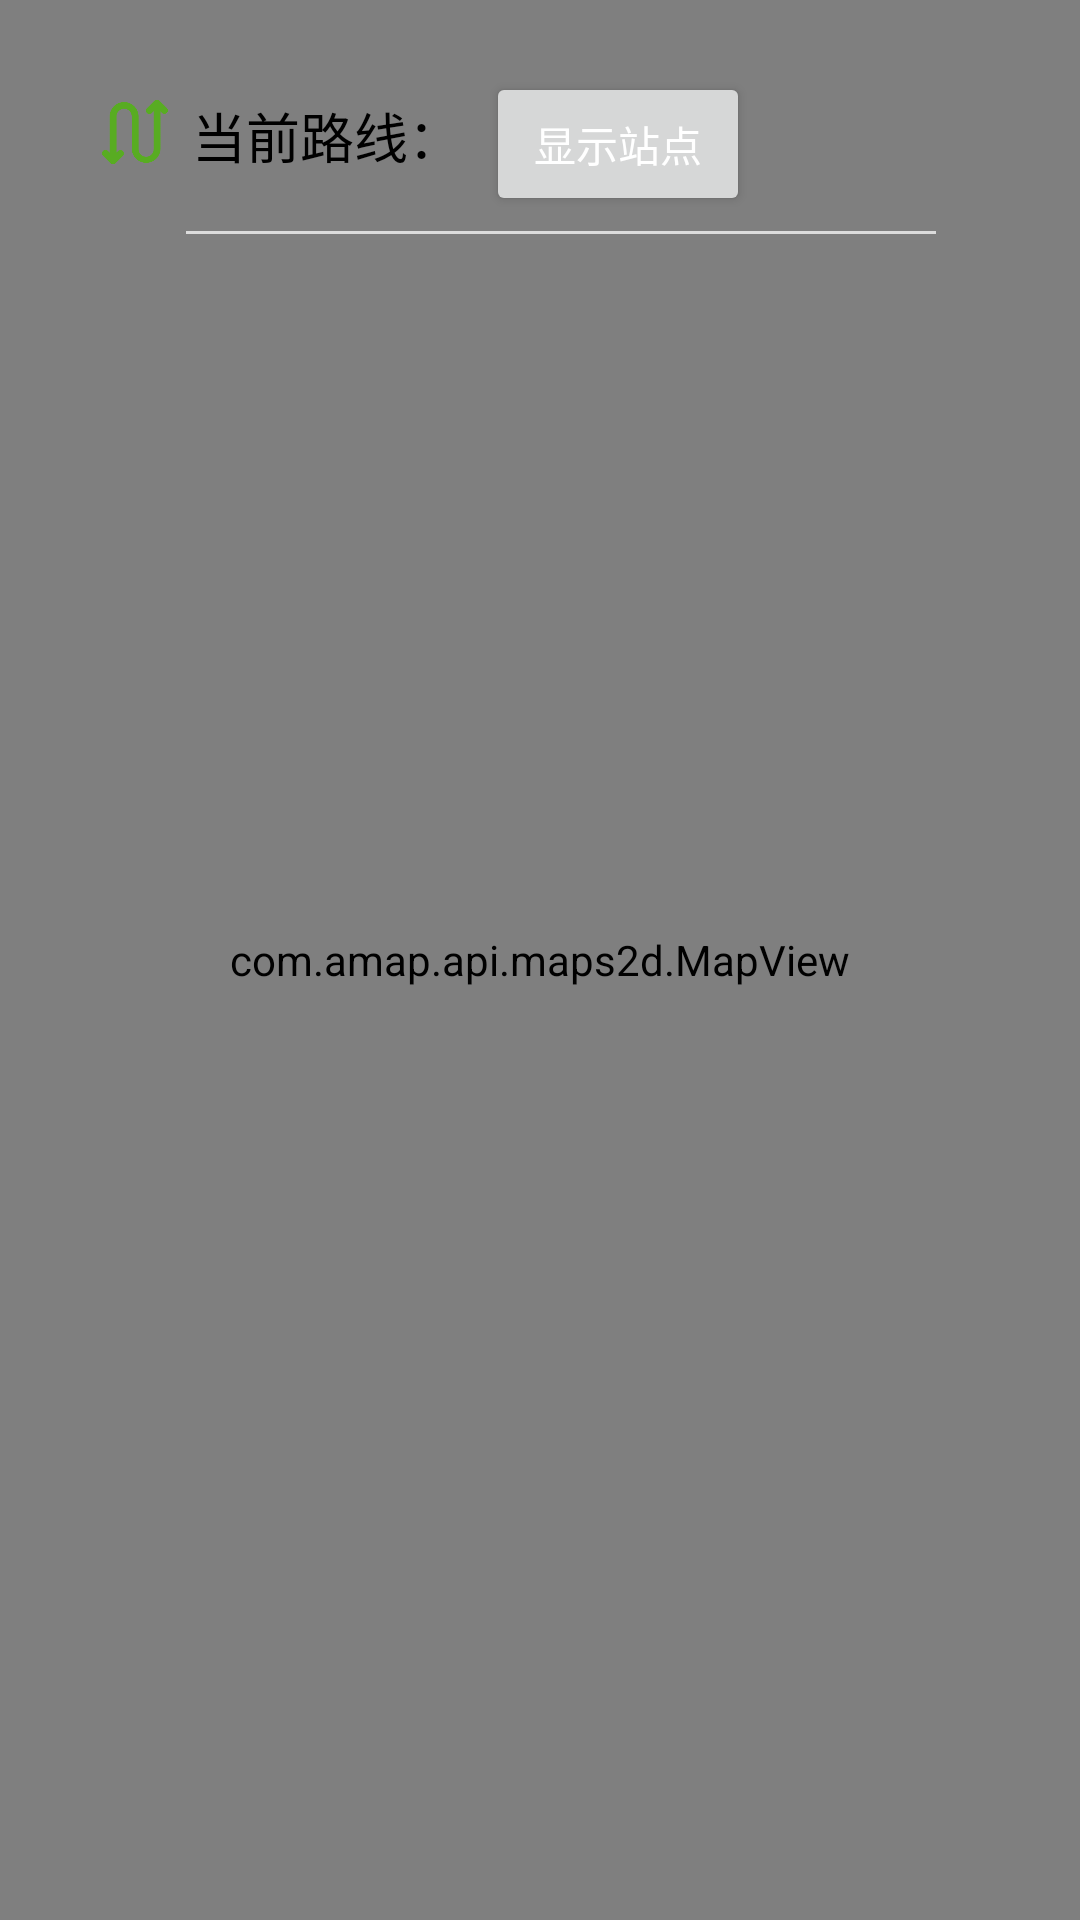

Screen size 1080w x 1920h. Icon name, then its box in pixels as {"left": x1, "top": y1, "right": x2, "bottom": y2}:
way: {"left": 102, "top": 100, "right": 168, "bottom": 164}
